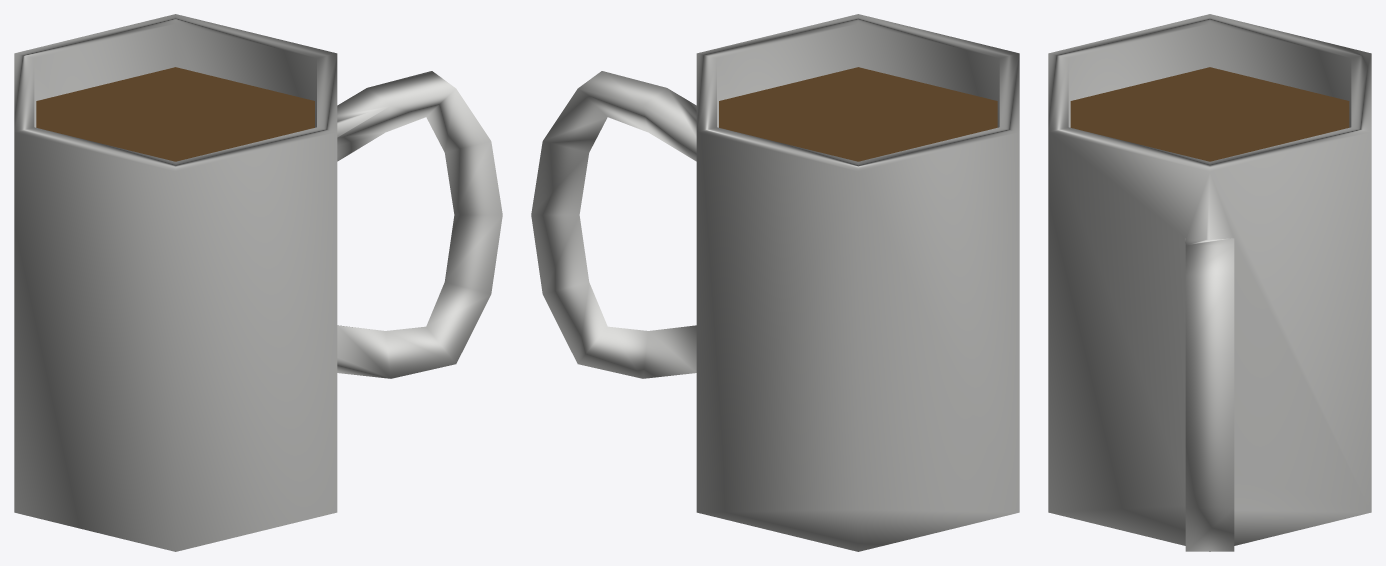
The model's file is cup.glb.
3 views of the same model, side by side, from view 1: azimuth 30°, elevation 25°; view 2: azimuth 150°, elevation 25°; view 3: azimuth 270°, elevation 25° (orthographic).
Parts seen in each view (by area): view 1: merged_ceramic, liquid; view 2: merged_ceramic, liquid; view 3: merged_ceramic, liquid.
Part boxes in pixels (x1=…): merged_ceramic: x1=14, y1=14, x2=502, y2=551; liquid: x1=36, y1=67, x2=314, y2=161; merged_ceramic: x1=531, y1=14, x2=1019, y2=551; liquid: x1=719, y1=67, x2=997, y2=161; merged_ceramic: x1=1048, y1=14, x2=1371, y2=551; liquid: x1=1070, y1=67, x2=1349, y2=161.
Size of the model in its own units: 0.118 by 0.09 by 0.0693.
